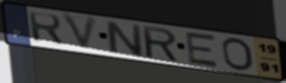E: (184, 30, 221, 69)
N: (103, 19, 146, 59)
O: (220, 36, 256, 72)
R: (140, 24, 181, 63), (27, 10, 66, 47)
V: (59, 12, 101, 54)
